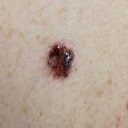Carcinoma: (44, 42, 74, 81)
